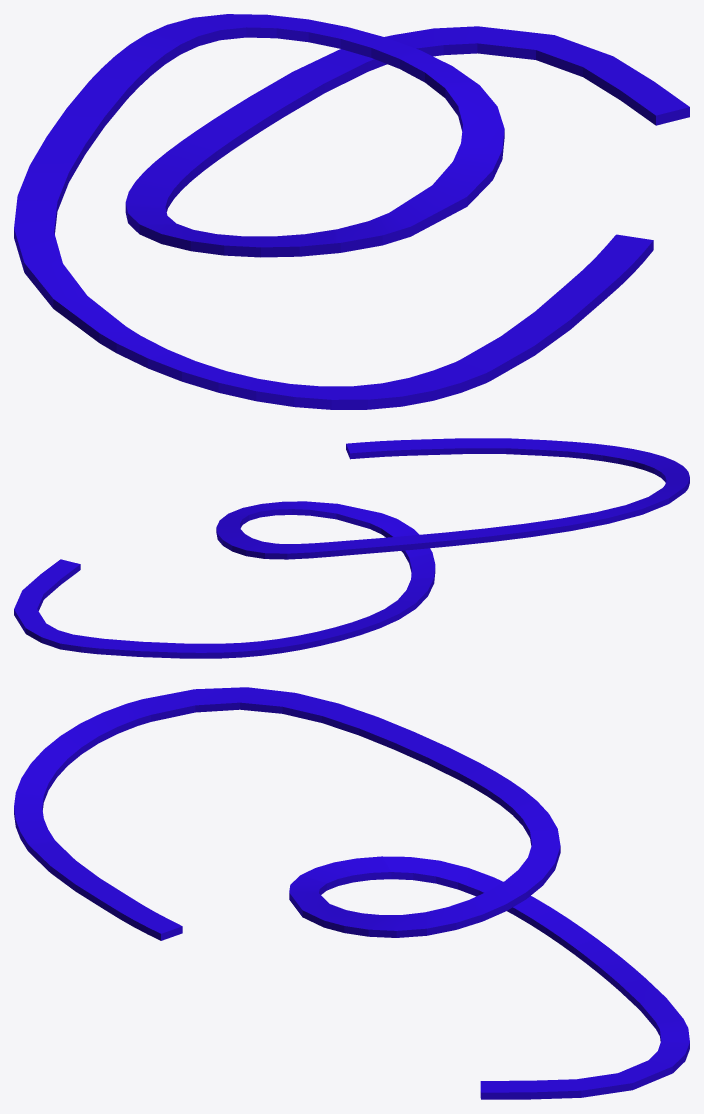
File: middleSection1.fbx
The picture shows the model from 3 angles, top to bottom: view 1: azimuth 30°, elevation 25°; view 2: azimuth 150°, elevation 25°; view 3: azimuth 270°, elevation 25°; orthographic projection. The views are drawn at different scales.
Parts seen in each view (by area): view 1: nurbsToPoly1; view 2: nurbsToPoly1; view 3: nurbsToPoly1.
Boxes of the visible parts, left/top/right/bottom form: nurbsToPoly1: left=14, top=14, right=689, bottom=409; nurbsToPoly1: left=14, top=438, right=689, bottom=658; nurbsToPoly1: left=14, top=687, right=689, bottom=1099.
Bounding box in the file's own units: 56.42 × 11.81 × 55.68.
